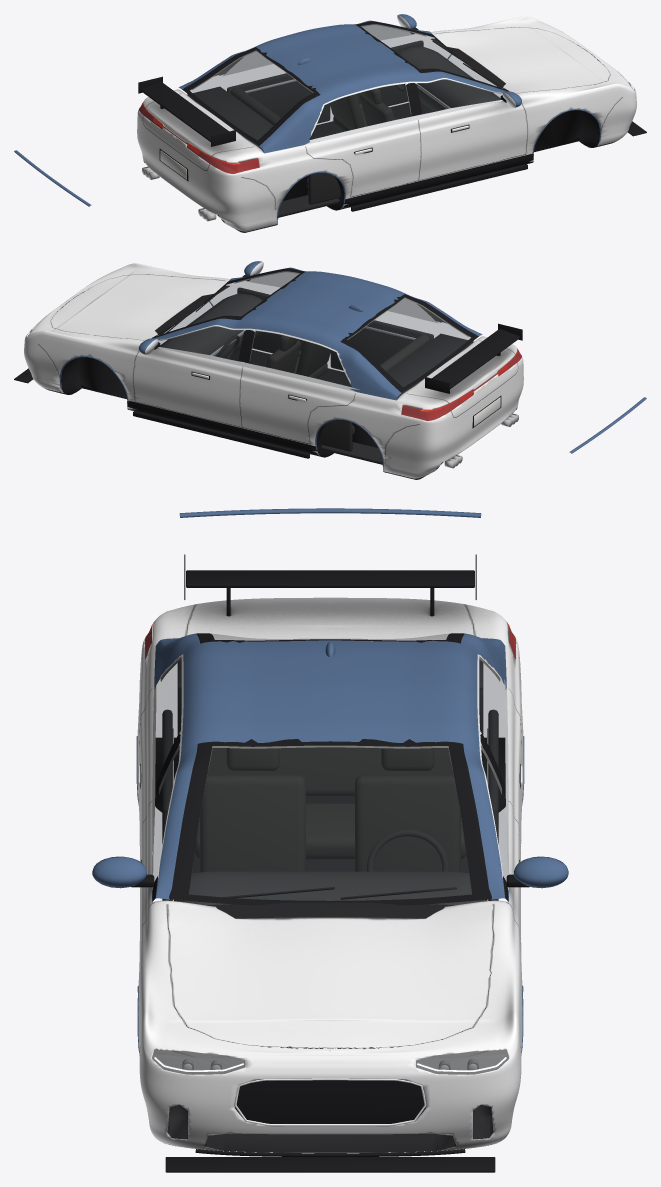
File: sedan.lod1.glb
3 views of the same model, one above another, from view 1: azimuth 30°, elevation 25°; view 2: azimuth 150°, elevation 25°; view 3: azimuth 270°, elevation 25° (orthographic). The views are drawn at different scales.
Parts seen in each view (by area): view 1: Body.lod1, Glasshouse.lod1, Glass.lod1, int_dash.lod1, int_door_1_1.lod1, int_parcel_shelf.lod1, aero_wing_blade.lod1, int_floor.lod1, aero_skirt_-1.lod1, taillamp_lens.lod1, int_door_-1_1.lod1, int_seat_driver_back.lod1 (+5 smaller); view 2: Body.lod1, Glasshouse.lod1, Glass.lod1, int_dash.lod1, int_door_-1_1.lod1, int_parcel_shelf.lod1, aero_wing_blade.lod1, int_floor.lod1, aero_skirt_1.lod1, taillamp_lens.lod1, int_door_1_1.lod1, int_seat_passenger_back.lod1 (+5 smaller); view 3: Body.lod1, Glasshouse.lod1, Glass.lod1, int_seat_passenger_back.lod1, int_seat_driver_back.lod1, int_dash.lod1, grille_ev_panel.lod1, int_seat_rear_back.lod1, aero_splitter_blade.lod1, aero_wing_blade.lod1, cowl.lod1, int_seat_rear_cushion.lod1 (+11 smaller).
Boxes of the visible parts, x1=… form: Body.lod1: x1=137, y1=16, x2=636, y2=232; Glasshouse.lod1: x1=178, y1=20, x2=508, y2=153; Glass.lod1: x1=190, y1=24, x2=502, y2=139; int_dash.lod1: x1=398, y1=46, x2=501, y2=111; int_door_1_1.lod1: x1=227, y1=73, x2=330, y2=123; int_parcel_shelf.lod1: x1=187, y1=86, x2=273, y2=151; aero_wing_blade.lod1: x1=140, y1=81, x2=228, y2=141; int_floor.lod1: x1=278, y1=102, x2=433, y2=217; aero_skirt_-1.lod1: x1=351, y1=164, x2=527, y2=211; taillamp_lens.lod1: x1=139, y1=102, x2=259, y2=173; int_door_-1_1.lod1: x1=308, y1=172, x2=340, y2=204; int_seat_driver_back.lod1: x1=329, y1=94, x2=364, y2=129; Body.lod1: x1=24, y1=263, x2=523, y2=479; Glasshouse.lod1: x1=152, y1=267, x2=482, y2=400; Glass.lod1: x1=158, y1=271, x2=470, y2=386; int_dash.lod1: x1=159, y1=293, x2=262, y2=358; int_door_-1_1.lod1: x1=330, y1=320, x2=433, y2=370; int_parcel_shelf.lod1: x1=387, y1=333, x2=473, y2=398; aero_wing_blade.lod1: x1=432, y1=328, x2=520, y2=388; int_floor.lod1: x1=229, y1=349, x2=382, y2=464; aero_skirt_1.lod1: x1=133, y1=411, x2=309, y2=458; taillamp_lens.lod1: x1=401, y1=349, x2=521, y2=420; int_door_1_1.lod1: x1=320, y1=420, x2=352, y2=451; int_seat_passenger_back.lod1: x1=296, y1=341, x2=331, y2=376; Body.lod1: x1=137, y1=597, x2=523, y2=1153; Glasshouse.lod1: x1=152, y1=633, x2=508, y2=905; Glass.lod1: x1=153, y1=634, x2=507, y2=900; int_seat_passenger_back.lod1: x1=200, y1=774, x2=305, y2=872; int_seat_driver_back.lod1: x1=355, y1=774, x2=460, y2=872; int_dash.lod1: x1=174, y1=871, x2=486, y2=905; grille_ev_panel.lod1: x1=235, y1=1080, x2=425, y2=1123; int_seat_rear_back.lod1: x1=207, y1=747, x2=453, y2=796; aero_splitter_blade.lod1: x1=165, y1=1157, x2=495, y2=1172; aero_wing_blade.lod1: x1=186, y1=570, x2=474, y2=587; cowl.lod1: x1=206, y1=902, x2=454, y2=918; int_seat_rear_cushion.lod1: x1=194, y1=803, x2=466, y2=859.
Size of the model in its own units: 6.32 by 1.32 by 2.34.
Materials: 25 (1 with a texture image).
